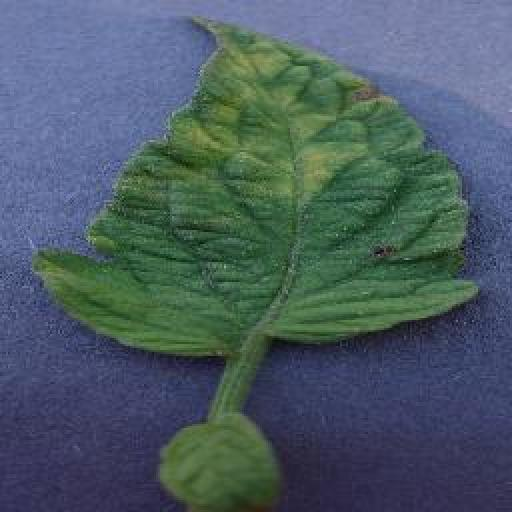disease_tomato: (28, 18, 484, 358)
